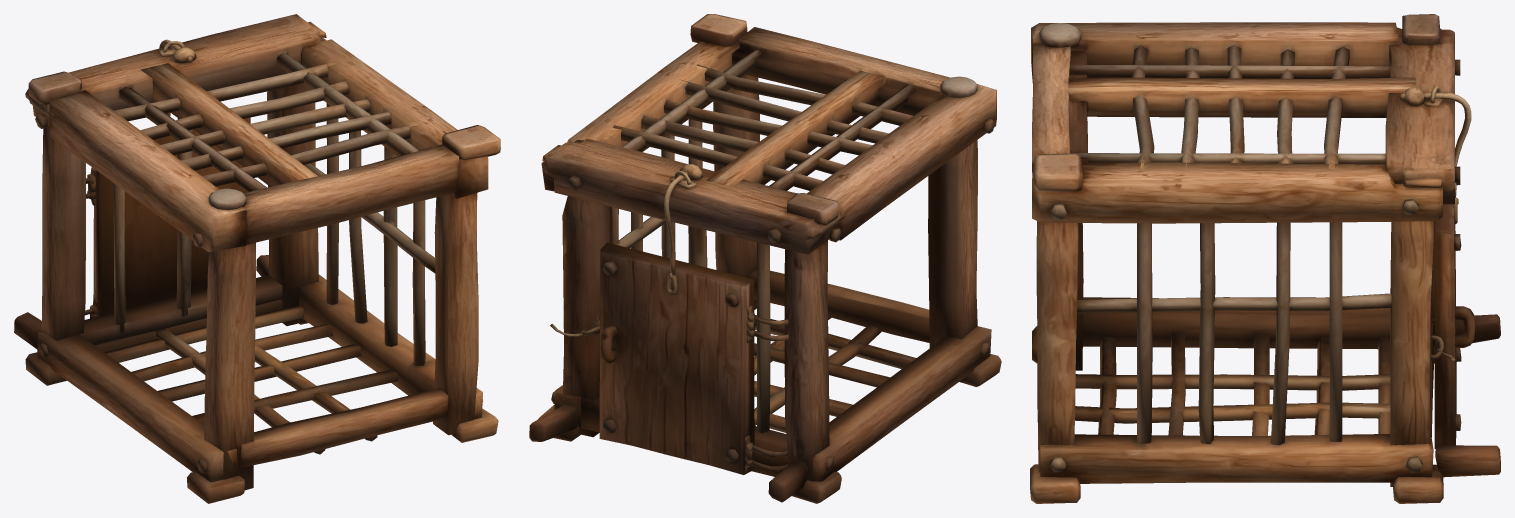
The model's file is piege-chasse.glb.
The picture shows the model from 3 angles, left to right: view 1: azimuth 30°, elevation 25°; view 2: azimuth 150°, elevation 25°; view 3: azimuth 270°, elevation 25°; orthographic projection. The views are drawn at different scales.
Visible parts, largest first — view 1: tripo_node_f3f3f1da-cc98-456f-9f4a-5a343c8f6750; view 2: tripo_node_f3f3f1da-cc98-456f-9f4a-5a343c8f6750; view 3: tripo_node_f3f3f1da-cc98-456f-9f4a-5a343c8f6750.
Part boxes in pixels (x1,y1,x2,y2): tripo_node_f3f3f1da-cc98-456f-9f4a-5a343c8f6750: (14,14,500,503); tripo_node_f3f3f1da-cc98-456f-9f4a-5a343c8f6750: (529,14,1001,503); tripo_node_f3f3f1da-cc98-456f-9f4a-5a343c8f6750: (1030,14,1500,503).
Bounding box in the file's own units: 0.8223 × 0.791 × 0.998.
1 material, 1 textured.
